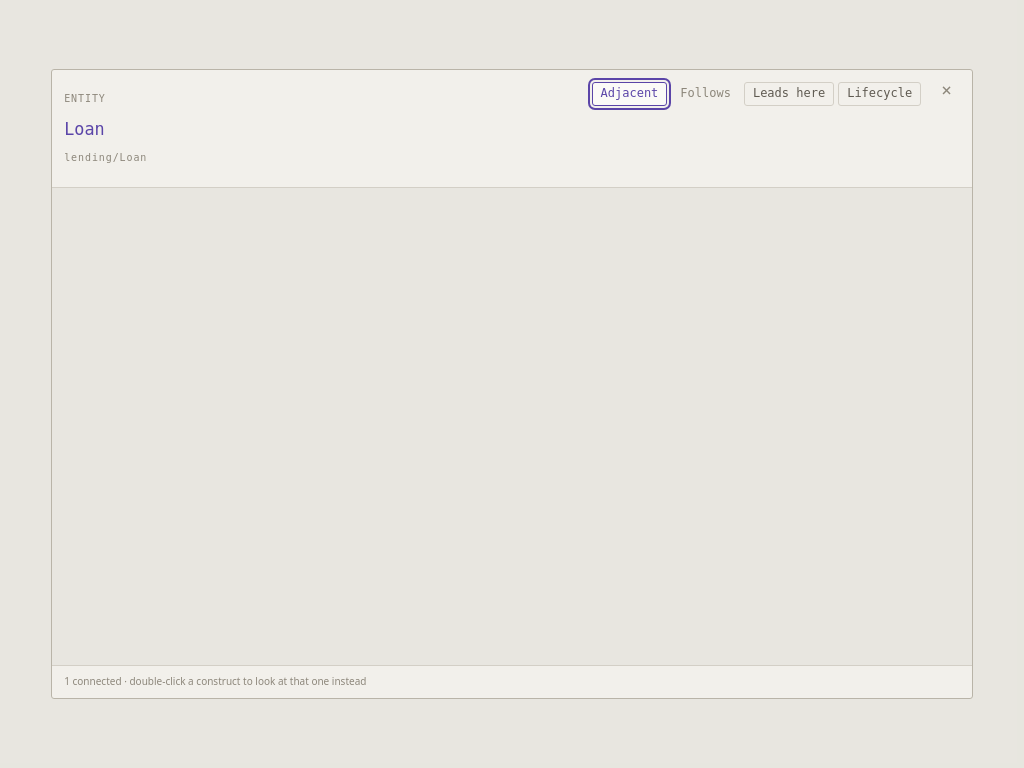
Focus · lifecycle › says the count in states once it is showing one
Click the button "Lifecycle" at (880, 94), box [838, 82, 921, 106]
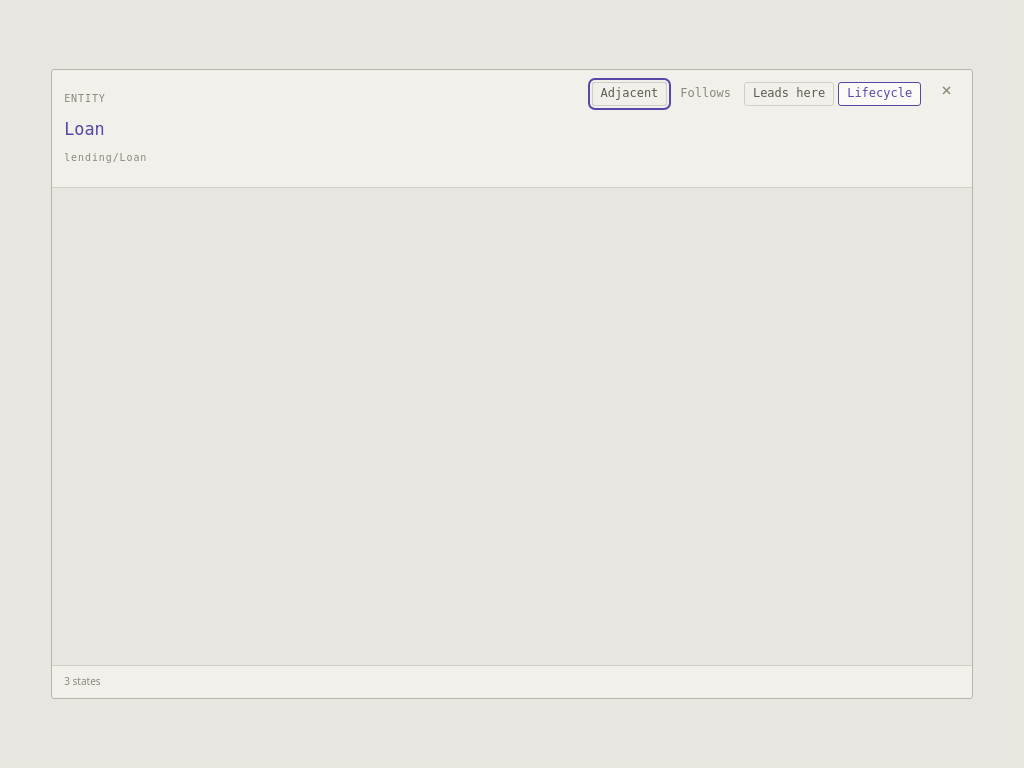
Now the text "3 states" is shown, box [52, 665, 972, 698]
